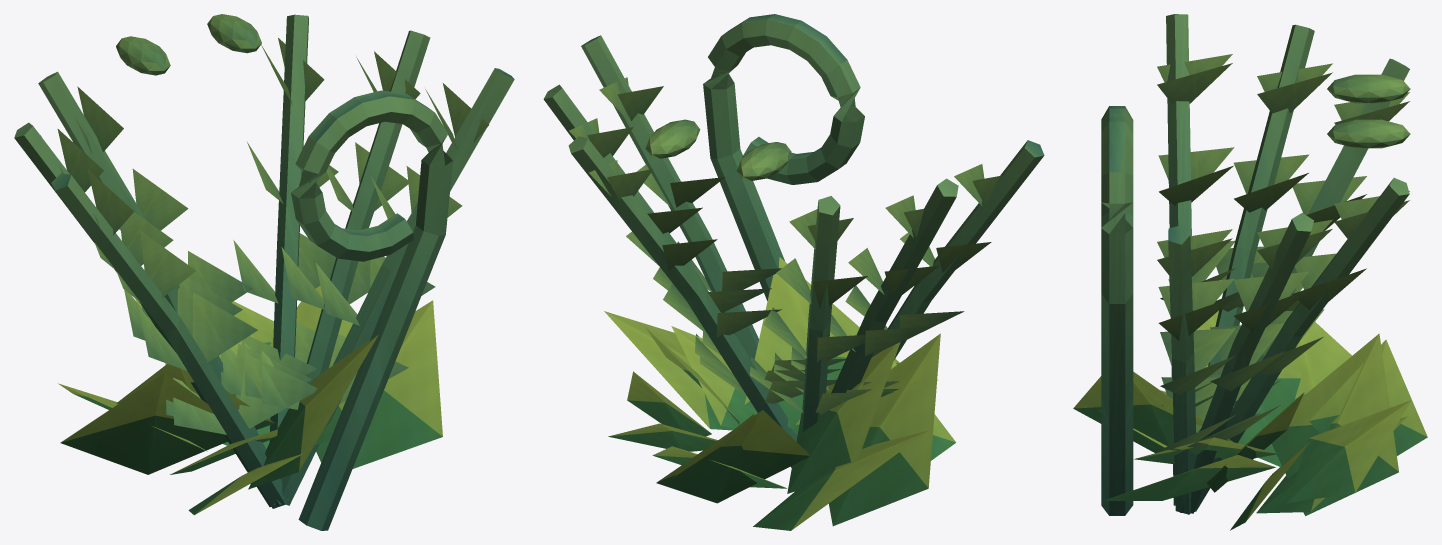
Rendered from forest_fern.glb.
3 views of the same model, side by side, from view 1: azimuth 30°, elevation 25°; view 2: azimuth 150°, elevation 25°; view 3: azimuth 270°, elevation 25° (orthographic).
Visible parts, largest first — view 1: Curled fern fiddlehead, Fern central stem.002, Woodland shared curved ivy leaf.038, Woodland shared curved ivy leaf.039, Fern central stem.003, Fern central stem.004, Fern central stem.005, Woodland shared curved ivy leaf.036, Fern central stem, Fern leaflet.017, Fern leaflet.019, Fern central stem.001 (+30 smaller); view 2: Curled fern fiddlehead, Woodland shared curved ivy leaf.038, Fern central stem.003, Woodland shared curved ivy leaf.030, Fern central stem.005, Woodland shared curved ivy leaf.032, Fern central stem.001, Fern central stem, Fern central stem.002, Woodland shared curved ivy leaf.036, Woodland shared curved ivy leaf.035, Woodland shared curved ivy leaf.039 (+30 smaller); view 3: Curled fern fiddlehead, Woodland shared curved ivy leaf.032, Woodland shared curved ivy leaf.037, Fern central stem.003, Fern central stem.001, Fern central stem.004, Fern central stem.005, Fern central stem.002, Woodland shared curved ivy leaf.036, Woodland shared curved ivy leaf.040, Woodland shared curved ivy leaf.039, Fern central stem (+41 smaller).
Part boxes in pixels (<box>): Curled fern fiddlehead: <box>291,90,452,530</box>; Fern central stem.002: <box>51,173,286,508</box>; Woodland shared curved ivy leaf.038: <box>60,373,227,474</box>; Woodland shared curved ivy leaf.039: <box>316,300,442,468</box>; Fern central stem.003: <box>269,14,308,499</box>; Fern central stem.004: <box>284,30,430,503</box>; Fern central stem.005: <box>280,68,514,505</box>; Woodland shared curved ivy leaf.036: <box>248,335,378,489</box>; Fern central stem: <box>38,71,286,504</box>; Fern leaflet.017: <box>239,354,317,428</box>; Fern leaflet.019: <box>192,292,257,362</box>; Fern central stem.001: <box>14,122,281,506</box>; Curled fern fiddlehead: <box>703,14,864,300</box>; Woodland shared curved ivy leaf.038: <box>829,333,940,526</box>; Fern central stem.003: <box>568,136,797,441</box>; Woodland shared curved ivy leaf.030: <box>787,342,900,493</box>; Fern central stem.005: <box>581,35,758,359</box>; Woodland shared curved ivy leaf.032: <box>656,410,810,503</box>; Fern central stem.001: <box>831,178,958,393</box>; Fern central stem: <box>801,196,840,431</box>; Fern central stem.002: <box>871,140,1044,359</box>; Woodland shared curved ivy leaf.036: <box>744,257,899,429</box>; Woodland shared curved ivy leaf.035: <box>753,430,928,530</box>; Woodland shared curved ivy leaf.039: <box>604,311,734,430</box>; Curled fern fiddlehead: <box>1101,106,1133,515</box>; Woodland shared curved ivy leaf.032: <box>1271,333,1398,515</box>; Woodland shared curved ivy leaf.037: <box>1287,400,1411,502</box>; Fern central stem.003: <box>1175,178,1409,513</box>; Fern central stem.001: <box>1208,24,1314,367</box>; Fern central stem.004: <box>1174,213,1313,513</box>; Fern central stem.005: <box>1168,225,1196,514</box>; Fern central stem.002: <box>1166,14,1192,505</box>; Woodland shared curved ivy leaf.036: <box>1073,371,1233,453</box>; Woodland shared curved ivy leaf.040: <box>1309,339,1427,455</box>; Woodland shared curved ivy leaf.039: <box>1103,455,1275,500</box>; Fern central stem: <box>1195,58,1409,510</box>.
Bounding box in the file's own units: 0.7049 × 0.6141 × 0.4654.
Materials: 4 (4 with a texture image).
